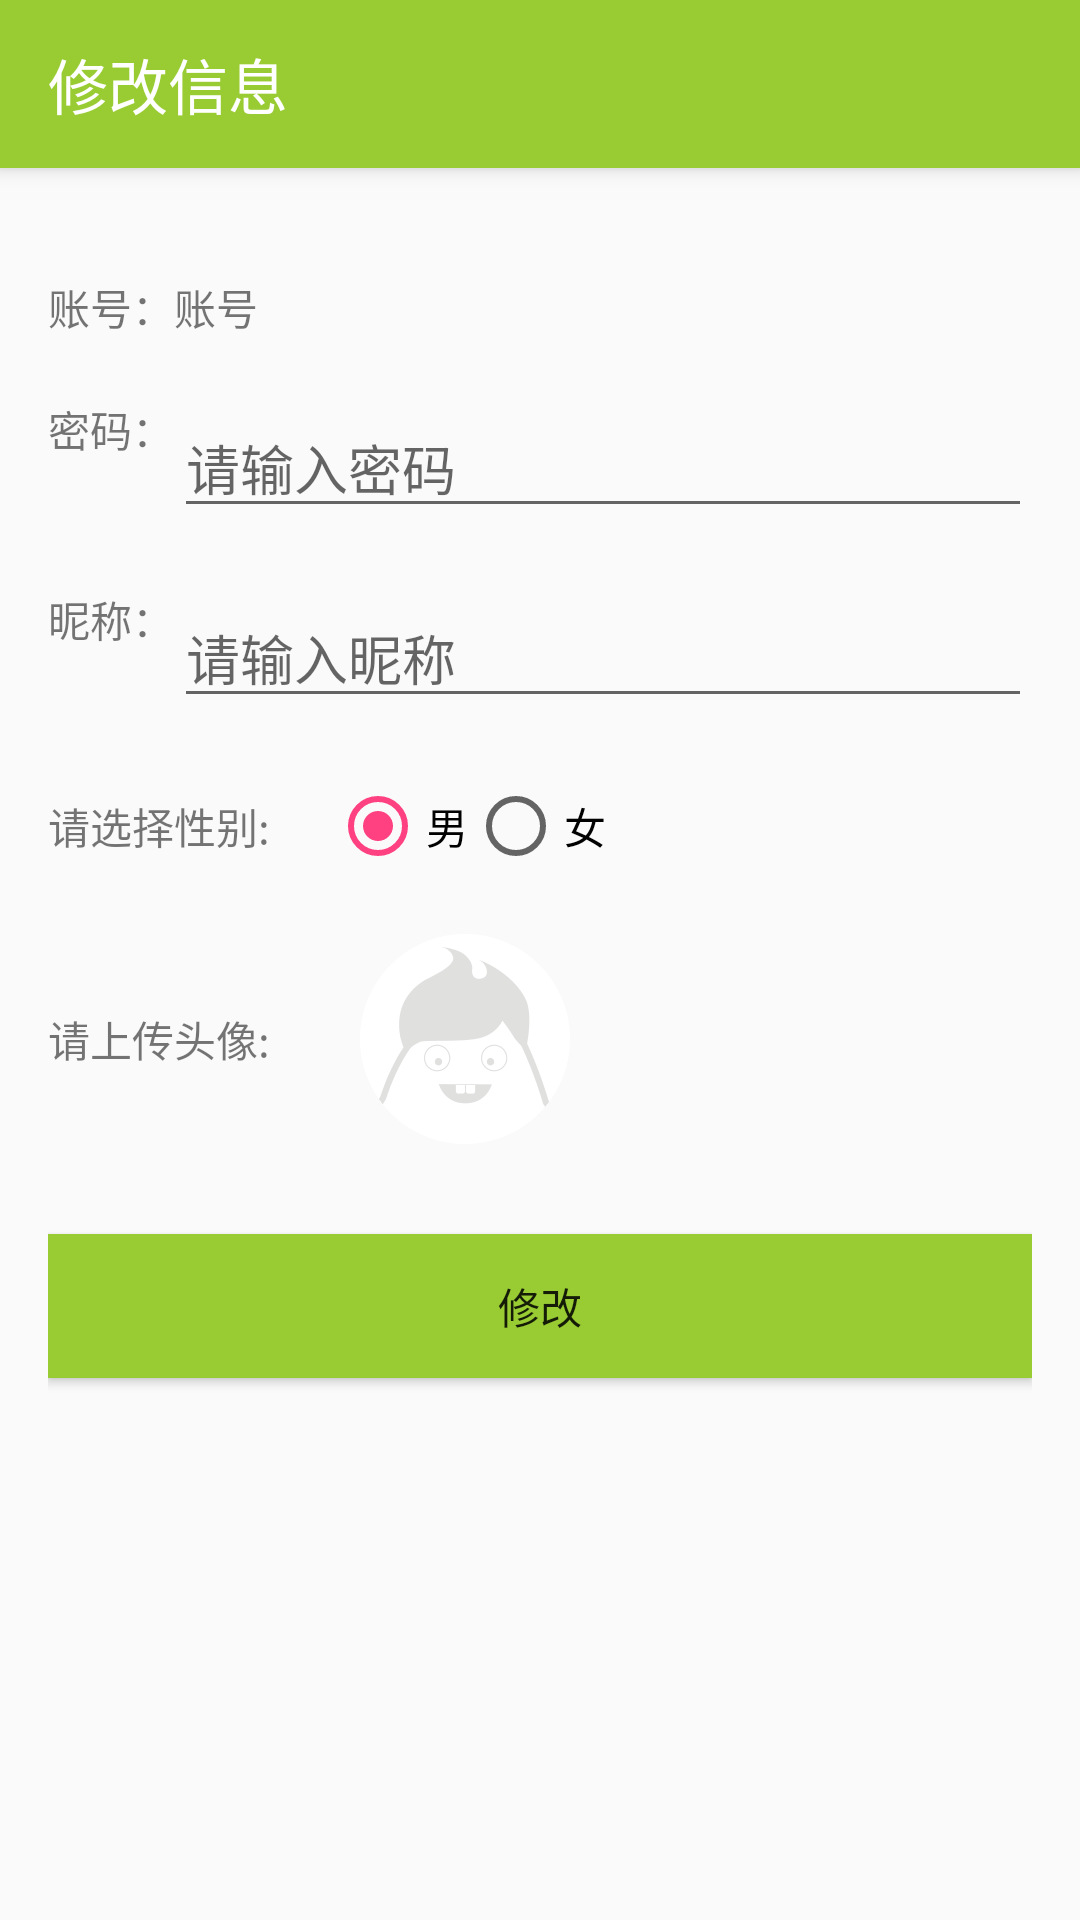

Screen size 1080×1920. Icon name, then its center in pixels as [x,y]:
personal user: [464,1027]
